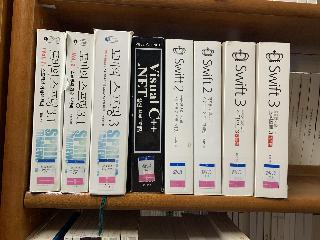book-spine: (89, 29, 130, 195), (30, 29, 67, 193), (255, 42, 291, 198), (60, 31, 94, 194), (222, 41, 255, 195), (131, 37, 163, 192), (164, 39, 193, 194), (193, 40, 221, 195)
